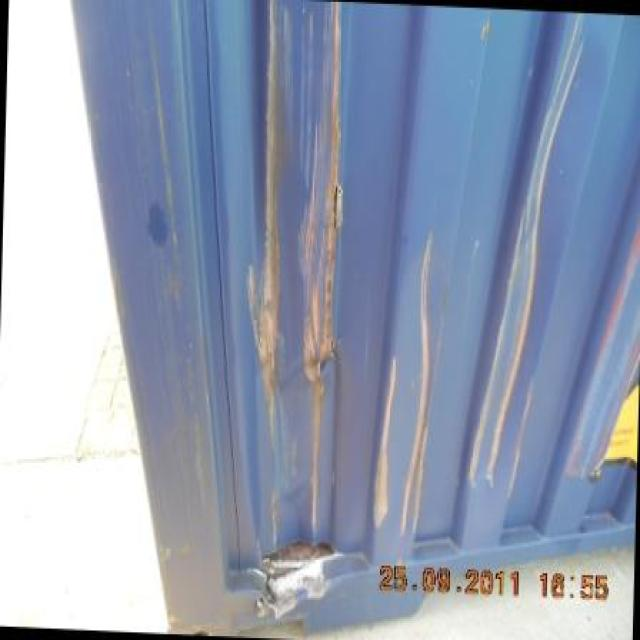hole: (237, 530, 345, 624), (332, 178, 345, 237)
